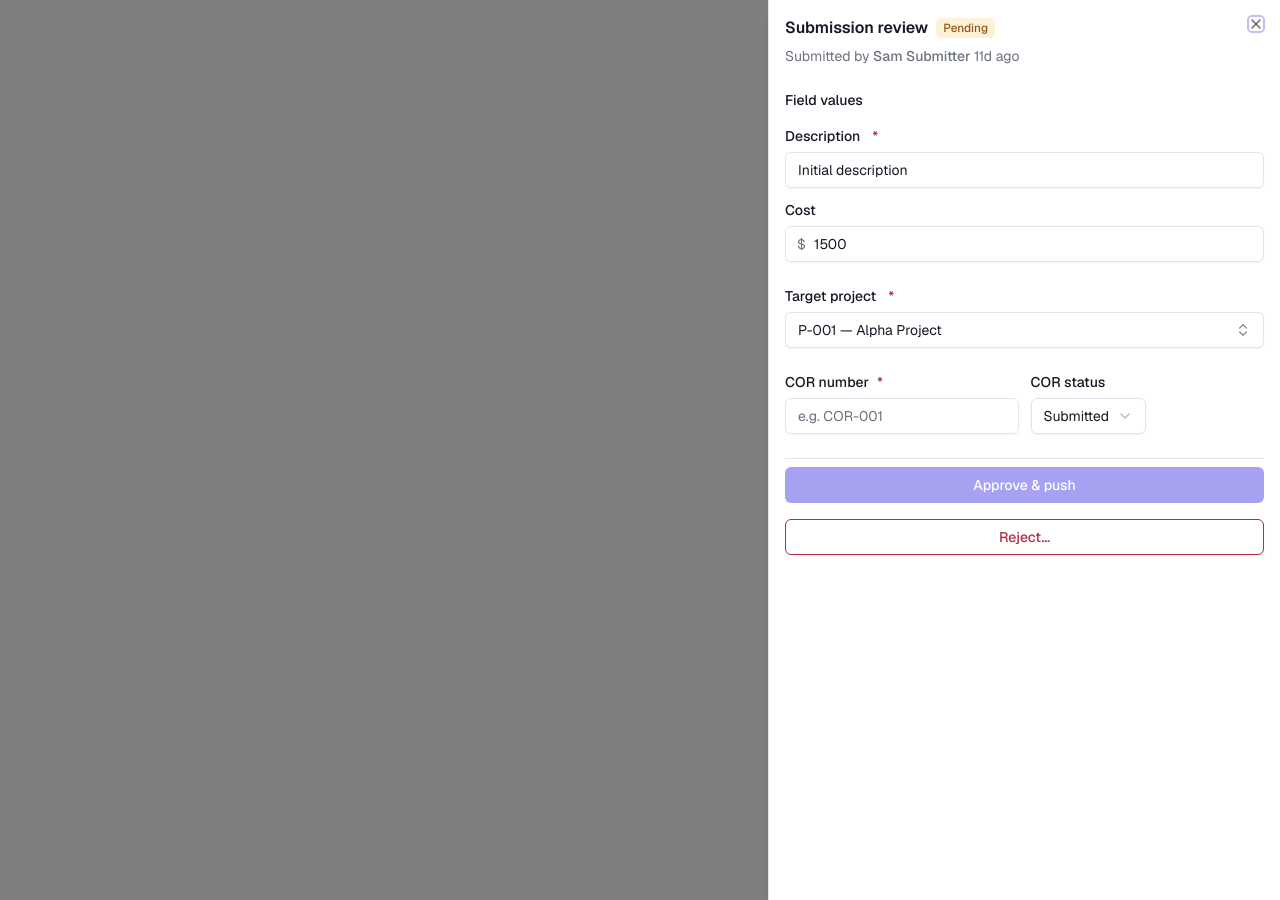
Scenario: ReviewSheet — Approve & push › Approve & push is disabled when cor_number has internal spaces
Expected: the field showing "Initial description" is shown, [785,152,1264,188]
Type "COR 001" into the field labelled "COR number *" at (902, 416), box [785,398,1018,434]
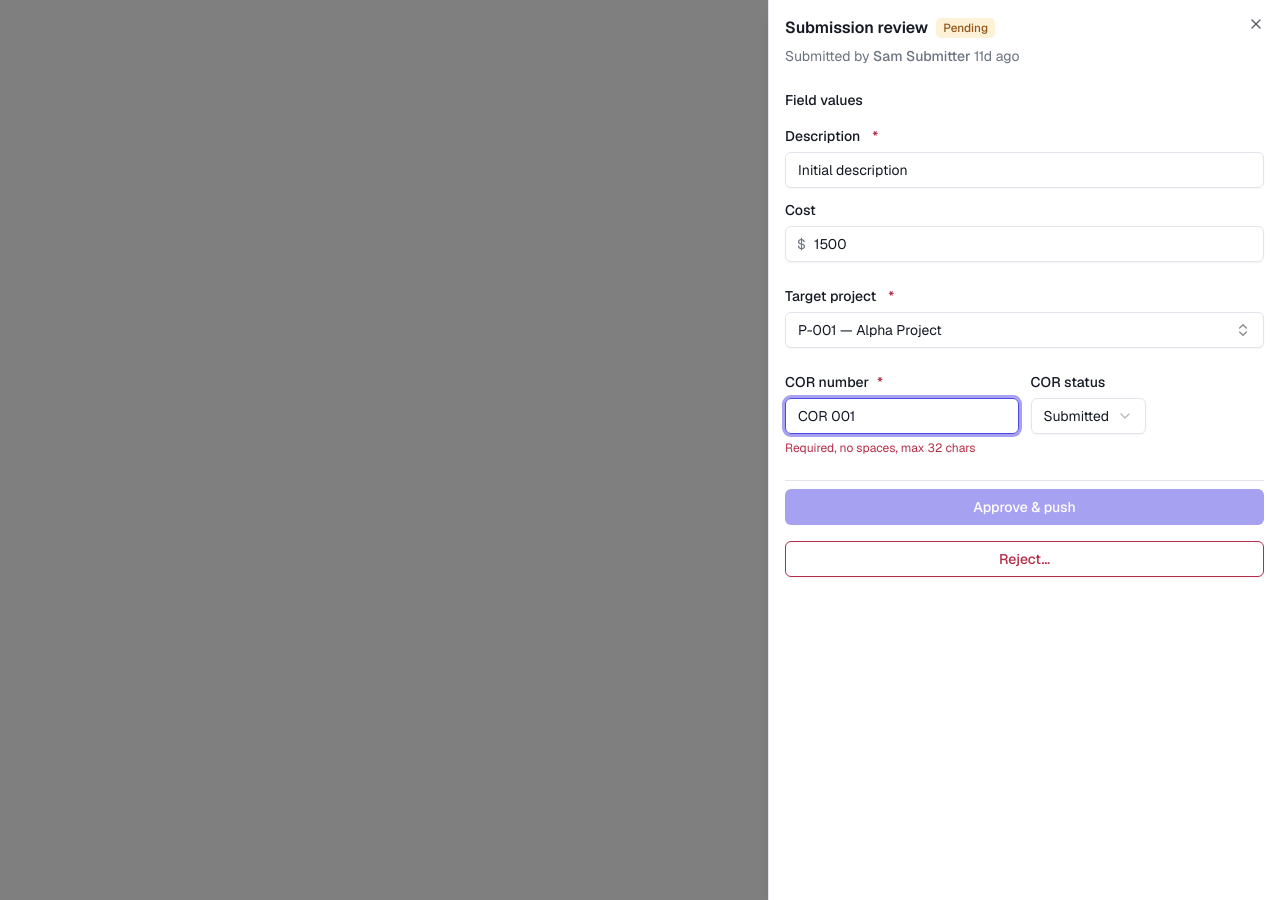
Expected: the button "Approve & push" is disabled, [785,489,1264,525]
Expected: the text "Required, no spaces, max 32 chars" is shown, [785,440,976,456]
